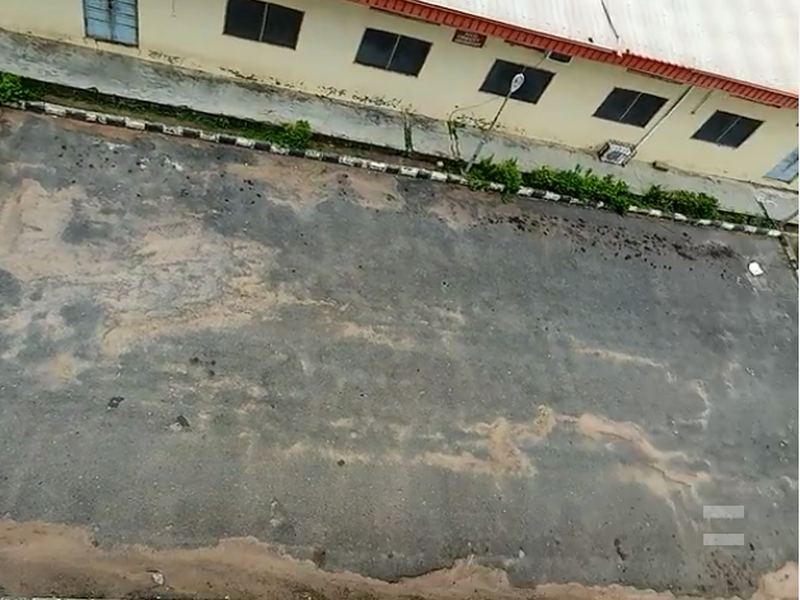five: (697, 195, 800, 364)
four: (529, 177, 630, 359)
one: (3, 73, 124, 318)
three: (360, 148, 480, 346)
two: (185, 121, 307, 342)
